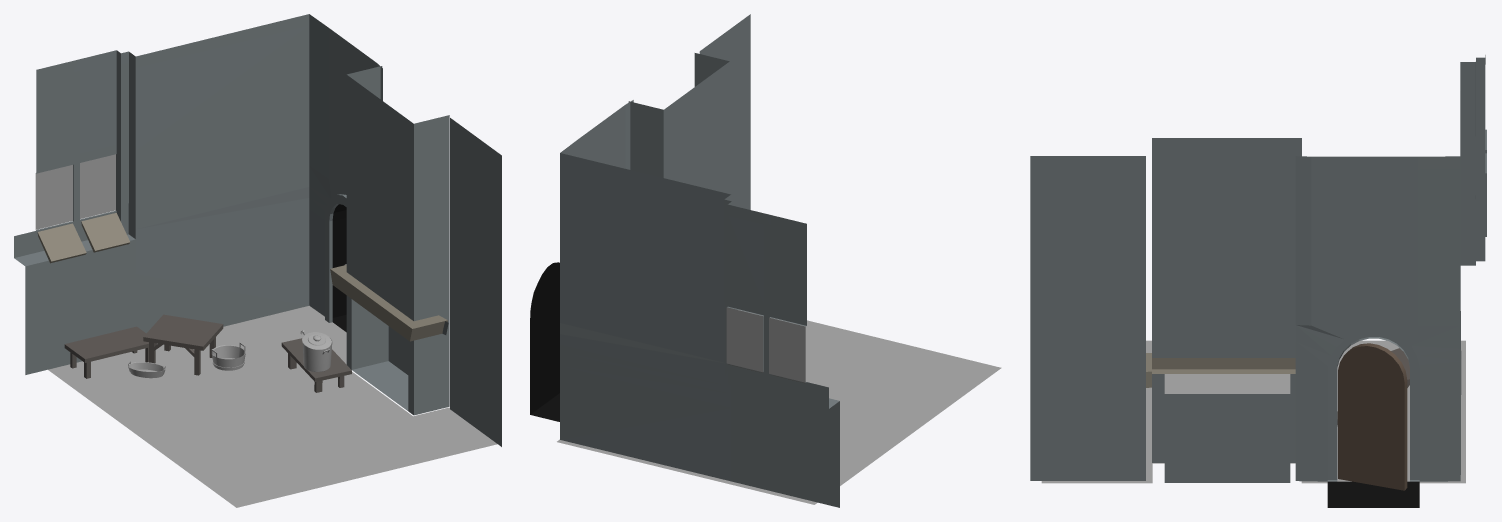
Rendered from room01.fbx.
3 views of the same model, side by side, from view 1: azimuth 30°, elevation 25°; view 2: azimuth 150°, elevation 25°; view 3: azimuth 270°, elevation 25° (orthographic). The views are drawn at different scales.
Parts seen in each view (by area): view 1: walls, floor, fireplace, table2, window1, table3, window3, windowSill3, windowSill2, table1, boilingPot, woodenWashtub; view 2: walls, floor, fireplace, window3, window1; view 3: walls, fireplace, door, floor.
Part boxes in pixels (x1,y1,x2,y2): walls: (14,14,501,446); floor: (48,305,497,507); fireplace: (330,66,449,415); table2: (143,314,223,375); window1: (35,165,72,229); table3: (64,326,156,378); window3: (80,154,115,218); windowSill3: (37,223,86,263); windowSill2: (81,213,130,252); table1: (281,338,351,392); boilingPot: (300,330,332,371); woodenWashtub: (211,342,245,370); walls: (530,14,839,507); floor: (557,310,1001,504); fireplace: (628,53,729,193); window3: (726,307,763,372); window1: (769,317,805,382); walls: (1030,55,1486,507); fireplace: (1146,138,1301,482); door: (1338,343,1407,490); floor: (1041,340,1465,483).
Size of the model in its own units: 1451 by 1217 by 1547.
